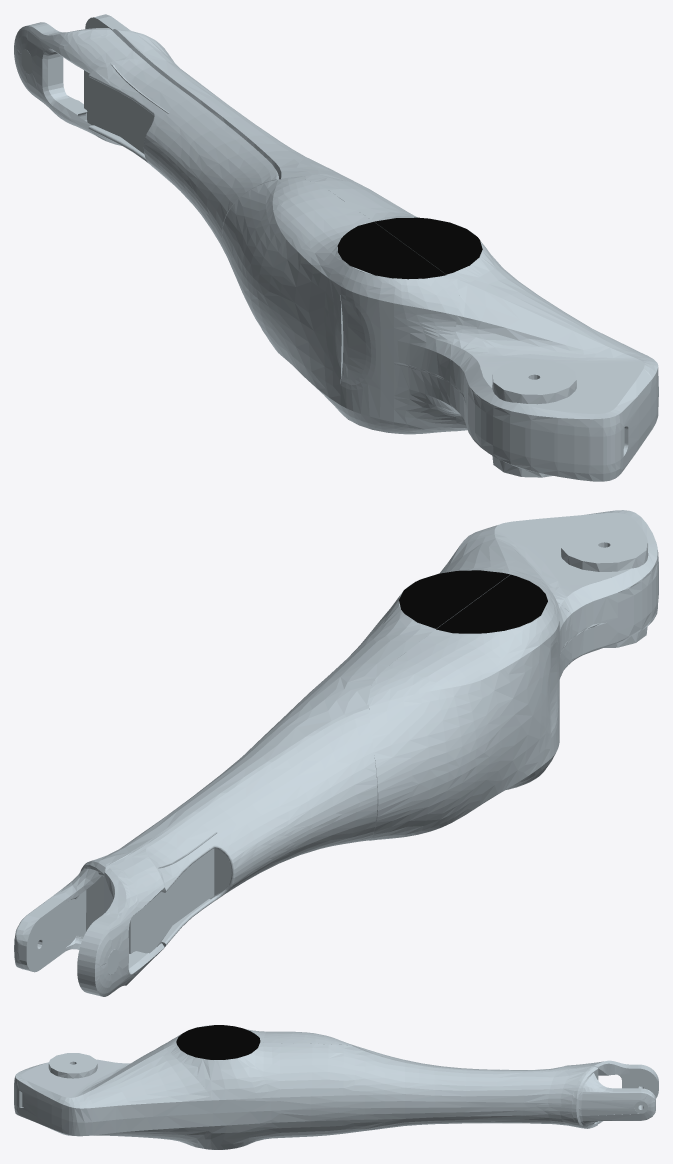
The model's file is right_knee_link.dae.
3 views of the same model, one above another, from view 1: azimuth 30°, elevation 25°; view 2: azimuth 150°, elevation 25°; view 3: azimuth 270°, elevation 25° (orthographic). The views are drawn at different scales.
Parts seen in each view (by area): view 1: right_knee_link; view 2: right_knee_link; view 3: right_knee_link.
Part boxes in pixels (x1,y1,x2,y2): right_knee_link: (14,14,658,481); right_knee_link: (14,510,658,996); right_knee_link: (14,1025,658,1149).
Bounding box in the file's own units: 0.1188 × 0.0867 × 0.564.
